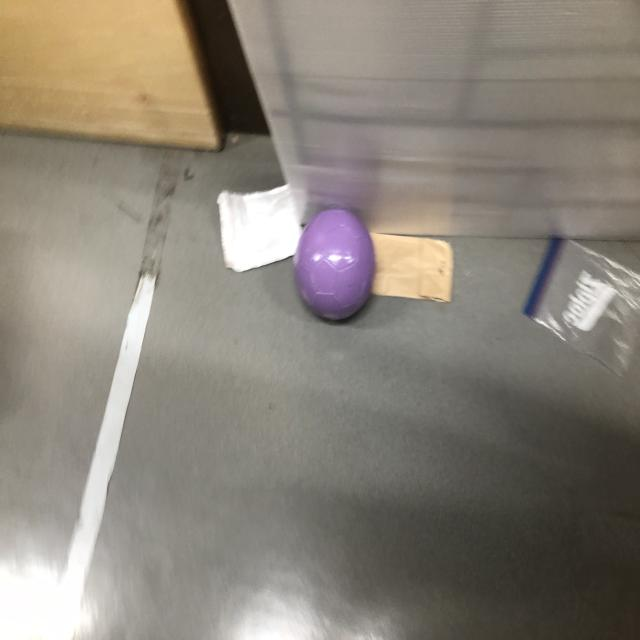purple_ball: (294, 207, 374, 322)
